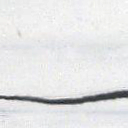crackTip: (1, 90, 128, 108)
